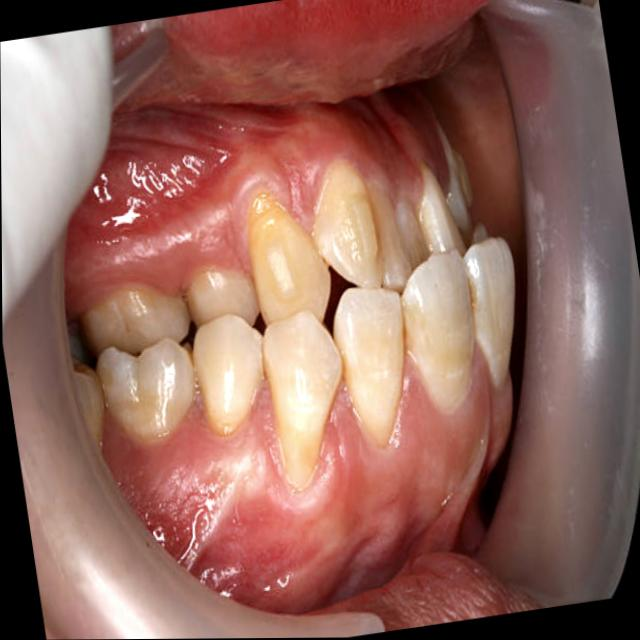gingivitis: (103, 357, 502, 611), (103, 358, 494, 613), (64, 96, 421, 319)
